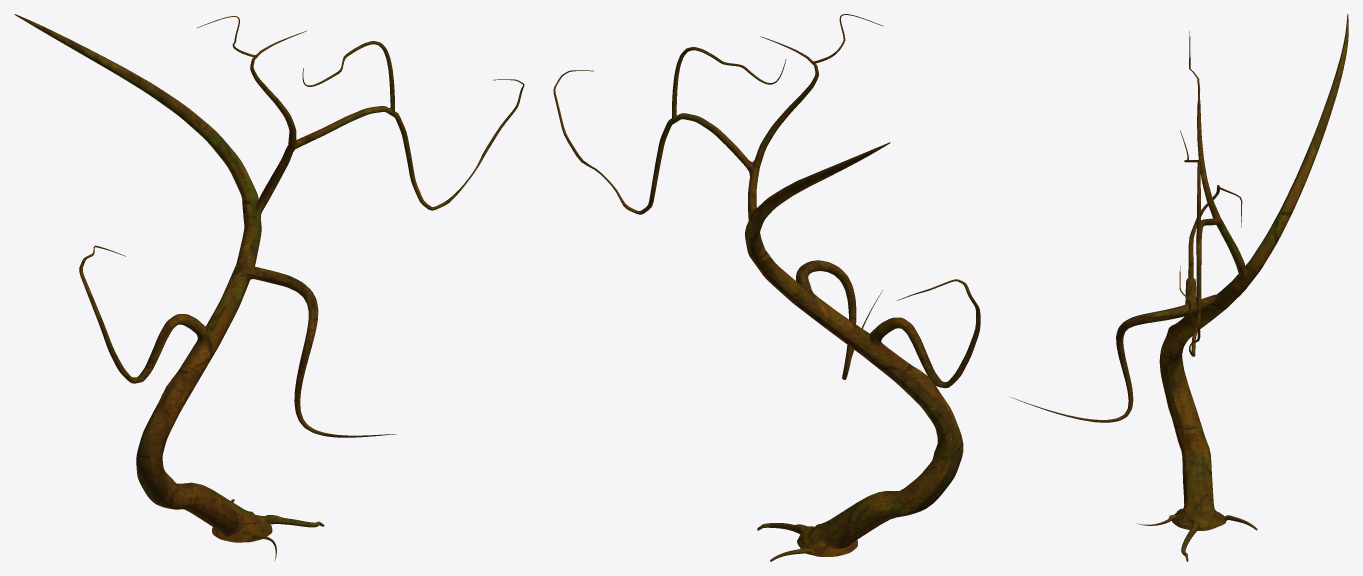
Rendered from Raizes.fbx.
The picture shows the model from 3 angles, left to right: view 1: azimuth 30°, elevation 25°; view 2: azimuth 150°, elevation 25°; view 3: azimuth 270°, elevation 25°; orthographic projection. The views are drawn at different scales.
Visible parts, largest first — view 1: Razies; view 2: Razies; view 3: Razies.
Boxes of the visible parts, x1,y1,x2,y2 form: Razies: [14, 14, 524, 560]; Razies: [553, 14, 980, 561]; Razies: [1010, 14, 1348, 561].
Size of the model in its own units: 17.58 by 20.9 by 13.42.
1 material, 1 textured.
